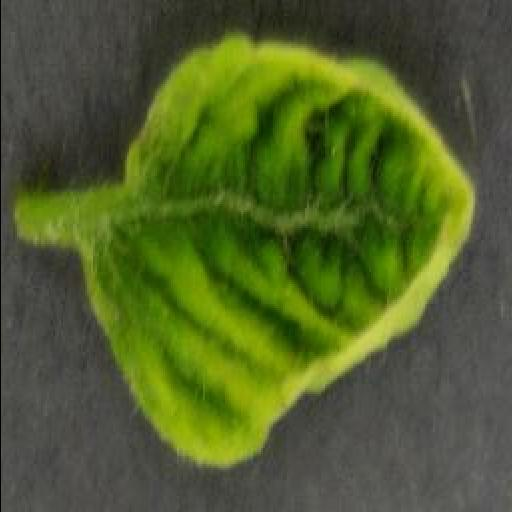disease_tomato: (77, 32, 475, 474)
